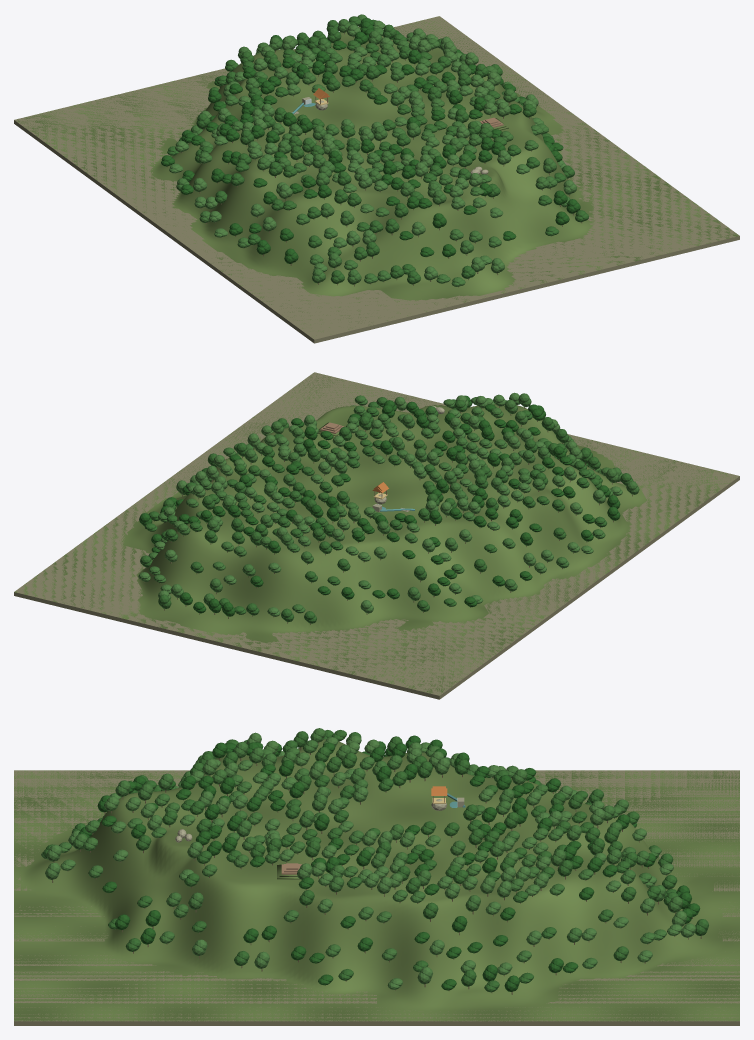
File: phnom-kulen-ultra.glb
3 renders of one model, top to bottom at view 1: azimuth 30°, elevation 25°; view 2: azimuth 150°, elevation 25°; view 3: azimuth 270°, elevation 25°, orthographic. The views are drawn at different scales.
Visible parts, largest first — view 1: Forested plateau, Earth section, Forest canopy 1, Forest canopy 3, Forest canopy 0, Forest canopy 2; view 2: Forested plateau, Earth section, Forest canopy 3, Forest canopy 1, Forest canopy 0, Forest canopy 2; view 3: Forested plateau, Earth section, Forest canopy 3, Forest canopy 2, Forest canopy 1, Forest canopy 0, Forest trunks.
Part boxes in pixels (bbox=[...]): Forested plateau: bbox=[15, 16, 739, 337]; Earth section: bbox=[14, 16, 739, 343]; Forest canopy 1: bbox=[167, 16, 588, 284]; Forest canopy 3: bbox=[169, 20, 576, 280]; Forest canopy 0: bbox=[161, 17, 580, 263]; Forest canopy 2: bbox=[176, 14, 570, 286]; Forested plateau: bbox=[15, 373, 738, 693]; Earth section: bbox=[14, 372, 739, 699]; Forest canopy 3: bbox=[138, 392, 622, 616]; Forest canopy 1: bbox=[140, 397, 633, 623]; Forest canopy 0: bbox=[139, 395, 620, 616]; Forest canopy 2: bbox=[148, 393, 639, 613]; Forested plateau: bbox=[14, 739, 739, 1021]; Earth section: bbox=[14, 770, 739, 1025]; Forest canopy 3: bbox=[45, 732, 695, 989]; Forest canopy 2: bbox=[41, 728, 682, 968]; Forest canopy 1: bbox=[43, 730, 708, 992]; Forest canopy 0: bbox=[78, 735, 700, 991]; Forest trunks: bbox=[52, 741, 701, 994].
Bounding box in the file's own units: 54 × 9.71 × 66.
